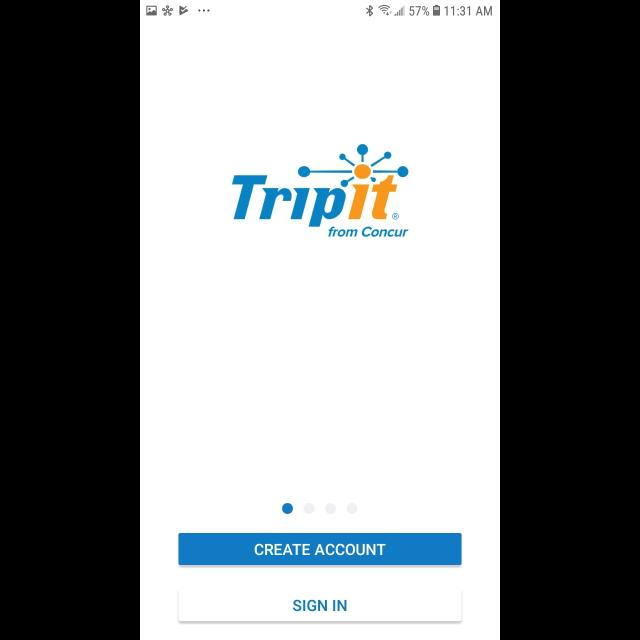image: (232, 144, 408, 238)
pageindicator: (282, 502, 358, 514)
textbutton: (178, 588, 462, 622), (178, 533, 462, 565)
uppertaskbar: (140, 1, 500, 18)
